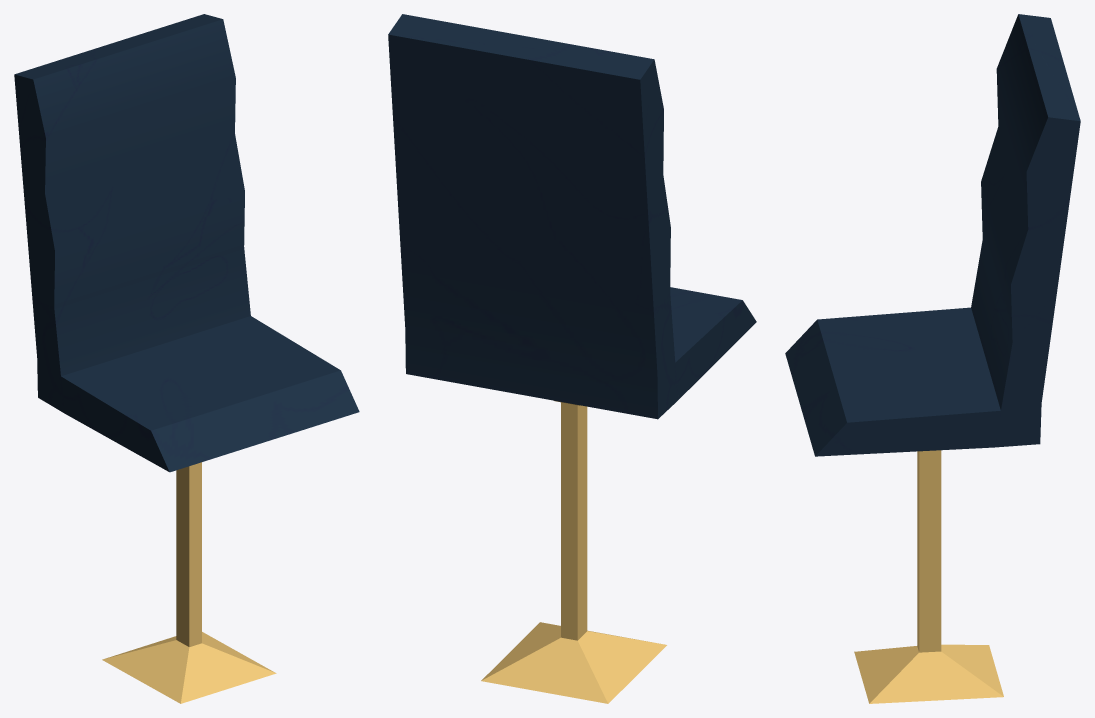
Rendered from Chair.FBX.
3 views of the same model, side by side, from view 1: azimuth 30°, elevation 25°; view 2: azimuth 150°, elevation 25°; view 3: azimuth 270°, elevation 25° (orthographic). The views are drawn at different scales.
Visible parts, largest first — view 1: node_id4; view 2: node_id4; view 3: node_id4.
Part boxes in pixels (<box>): node_id4: <box>14,14,359,703</box>; node_id4: <box>388,14,756,703</box>; node_id4: <box>785,14,1080,703</box>.
Bounding box in the file's own units: 0.2128 × 0.512 × 0.2272.
Materials: 1 (1 with a texture image).
